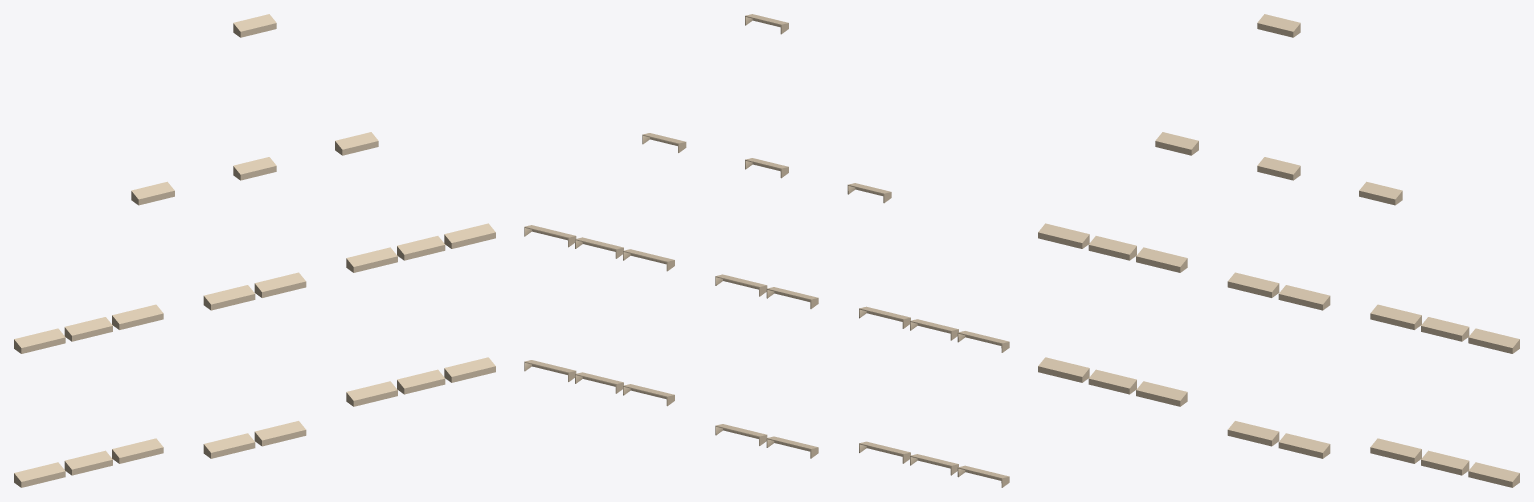
File: FairyTale214.gltf
3 renders of one model, left to right at view 1: azimuth 30°, elevation 25°; view 2: azimuth 150°, elevation 25°; view 3: azimuth 330°, elevation 25°, orthographic.
Visible parts, largest first — view 1: HouseMD04_Cloth; view 2: HouseMD04_Cloth; view 3: HouseMD04_Cloth.
Boxes of the visible parts, x1,y1,x2,y2 form: HouseMD04_Cloth: [14, 14, 495, 487]; HouseMD04_Cloth: [524, 14, 1009, 487]; HouseMD04_Cloth: [1038, 14, 1519, 487].
Bounding box in the file's own units: 9.14 × 7.8 × 0.2492.
